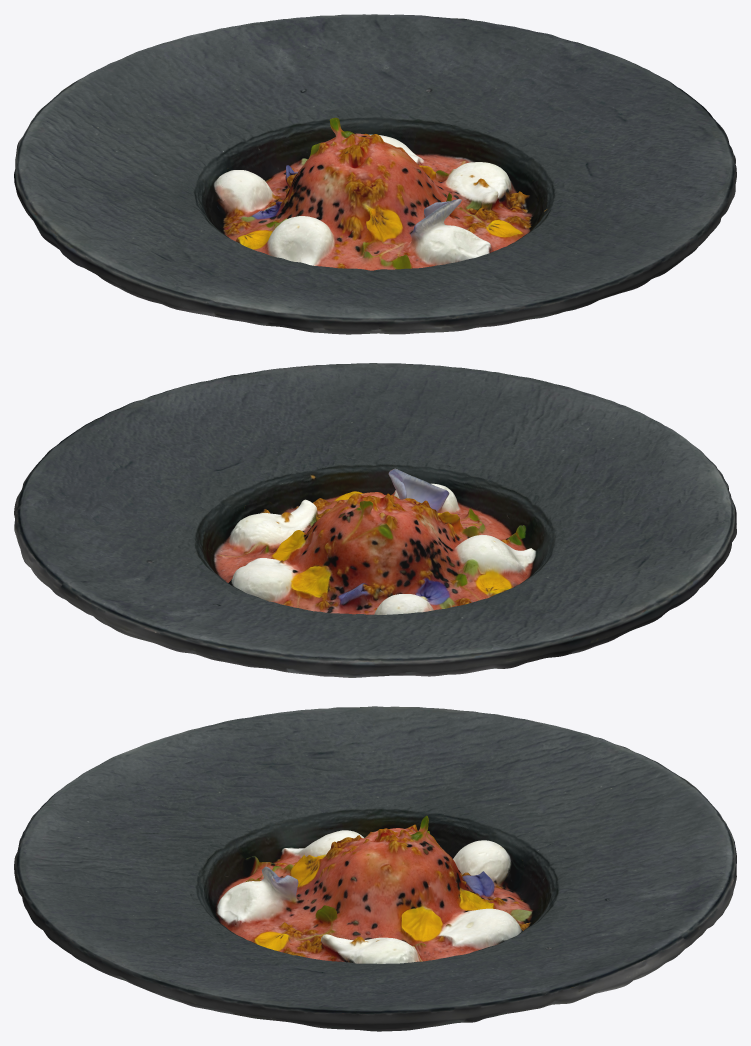
Rendered from fraise.glb.
3 renders of one model, top to bottom at view 1: azimuth 30°, elevation 25°; view 2: azimuth 150°, elevation 25°; view 3: azimuth 270°, elevation 25°, orthographic.
Visible parts, largest first — view 1: _94799A2C_DE3D_4C87_849B_05F0C93083FD; view 2: _94799A2C_DE3D_4C87_849B_05F0C93083FD; view 3: _94799A2C_DE3D_4C87_849B_05F0C93083FD.
Boxes of the visible parts, bbox=[...] form: _94799A2C_DE3D_4C87_849B_05F0C93083FD: bbox=[14, 14, 736, 334]; _94799A2C_DE3D_4C87_849B_05F0C93083FD: bbox=[14, 363, 736, 677]; _94799A2C_DE3D_4C87_849B_05F0C93083FD: bbox=[14, 706, 736, 1031].
Bounding box in the file's own units: 0.2265 × 0.0403 × 0.2255.
1 material, 1 textured.
